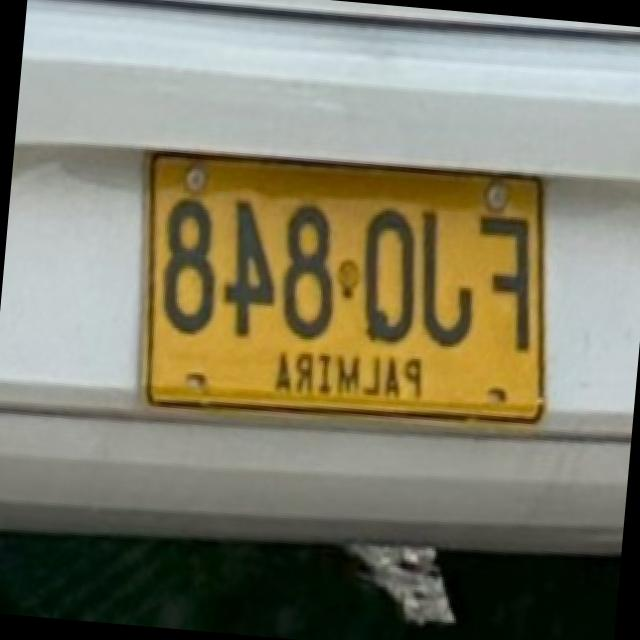number plate: (150, 153, 545, 414)
